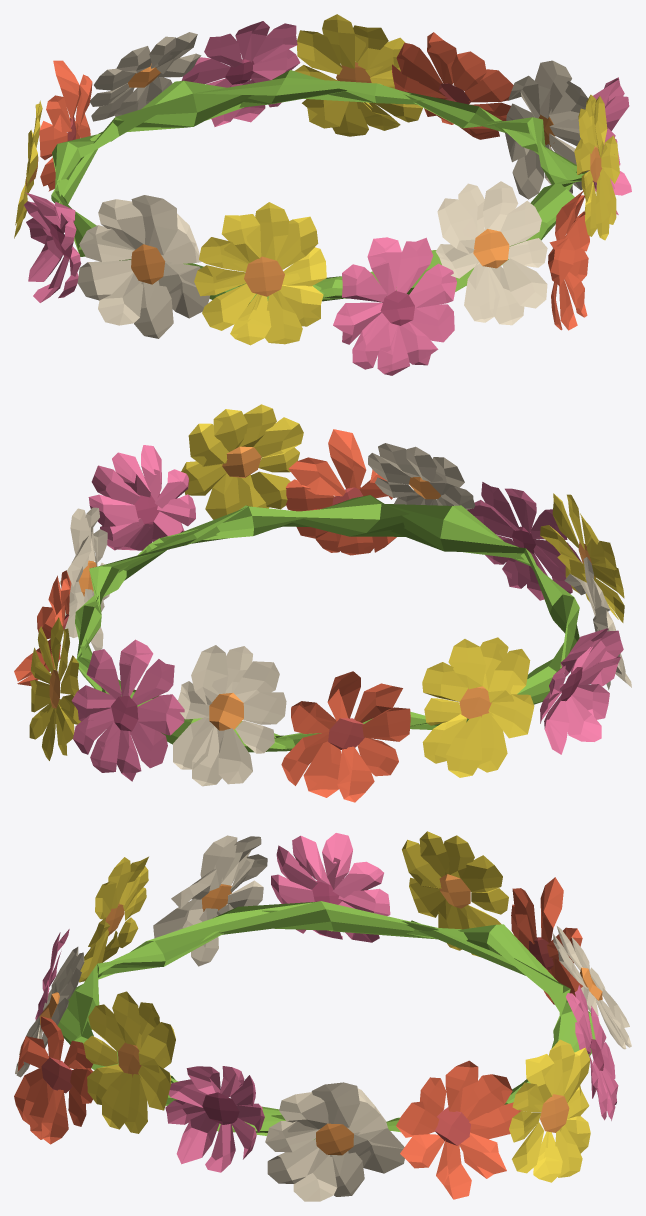
The model's file is flowerCrownJoined.fbx.
3 renders of one model, top to bottom at view 1: azimuth 30°, elevation 25°; view 2: azimuth 150°, elevation 25°; view 3: azimuth 270°, elevation 25°, orthographic.
Parts seen in each view (by area): view 1: Torus.001, Sphere.078, Sphere.039, Sphere.050, Sphere.029, Sphere.108, Sphere.140, Sphere.119, Sphere.098, Sphere.059, Sphere.022, Sphere.128 (+2 smaller); view 2: Torus.001, Sphere.059, Sphere.078, Sphere.088, Sphere.091, Sphere.098, Sphere.128, Sphere.022, Sphere.029, Sphere.108, Sphere.039, Sphere.119 (+2 smaller); view 3: Sphere.059, Torus.001, Sphere.119, Sphere.140, Sphere.108, Sphere.088, Sphere.128, Sphere.022, Sphere.050, Sphere.078, Sphere.039, Sphere.091 (+2 smaller).
Part boxes in pixels (x1,y1,x2,y2): Torus.001: (51, 70, 586, 304); Sphere.078: (90, 32, 547, 325); Sphere.039: (194, 202, 326, 345); Sphere.050: (77, 195, 209, 338); Sphere.029: (333, 237, 456, 375); Sphere.108: (294, 14, 422, 136); Sphere.140: (392, 32, 513, 139); Sphere.119: (505, 60, 588, 199); Sphere.098: (181, 21, 300, 126); Sphere.059: (574, 77, 631, 240); Sphere.022: (548, 190, 589, 330); Sphere.128: (24, 192, 81, 302); Torus.001: (75, 495, 579, 752); Sphere.059: (88, 404, 303, 550); Sphere.078: (173, 443, 475, 786); Sphere.088: (422, 637, 534, 777); Sphere.091: (281, 671, 410, 802); Sphere.098: (71, 639, 184, 781); Sphere.128: (540, 628, 623, 754); Sphere.022: (286, 429, 396, 555); Sphere.029: (467, 482, 581, 600); Sphere.108: (29, 617, 80, 760); Sphere.039: (540, 493, 624, 622); Sphere.119: (59, 507, 109, 650); Sphere.059: (83, 991, 264, 1172); Torus.001: (57, 901, 600, 1139); Sphere.119: (265, 1082, 404, 1201); Sphere.140: (396, 1060, 521, 1199); Sphere.108: (509, 1039, 590, 1182); Sphere.088: (402, 831, 508, 956); Sphere.128: (271, 833, 390, 942); Sphere.022: (14, 1016, 92, 1144); Sphere.050: (153, 835, 267, 966); Sphere.078: (15, 926, 631, 1077); Sphere.039: (79, 856, 148, 982); Sphere.091: (511, 877, 582, 1004).
Bounding box in the file's own units: 305 × 101 × 301.
